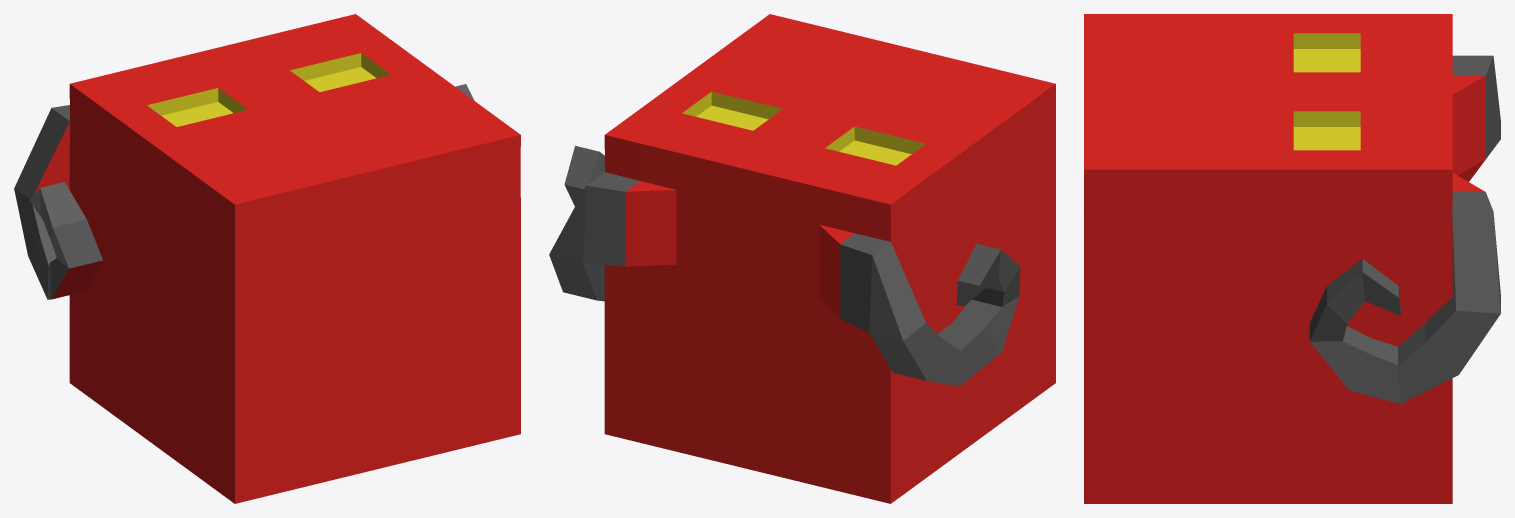
File: demon.fbx
3 views of the same model, side by side, from view 1: azimuth 30°, elevation 25°; view 2: azimuth 150°, elevation 25°; view 3: azimuth 270°, elevation 25° (orthographic). The views are drawn at different scales.
Parts seen in each view (by area): view 1: Cube; view 2: Cube; view 3: Cube.
Boxes of the visible parts, bbox=[...] form: Cube: bbox=[14, 14, 520, 503]; Cube: bbox=[549, 14, 1055, 503]; Cube: bbox=[1084, 14, 1500, 503].
Size of the model in its own units: 302 by 200 by 226.
